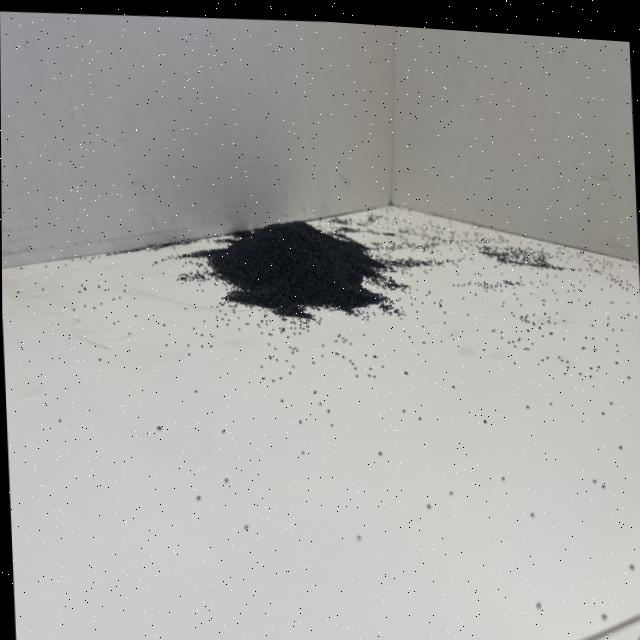Poppy Seeds: (178, 188, 424, 377)
